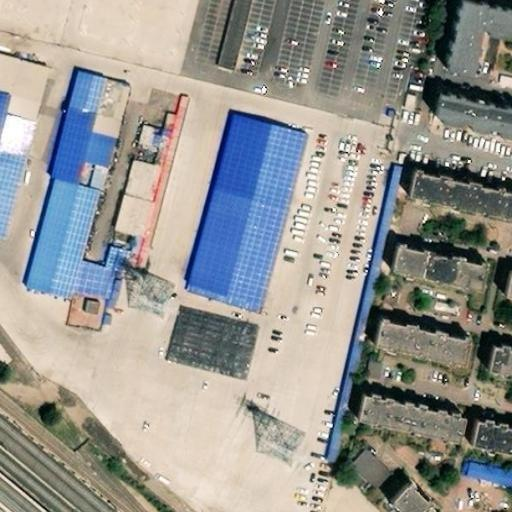building: (324, 177, 405, 465), (192, 129, 307, 319), (107, 100, 184, 286), (25, 192, 104, 313), (52, 83, 130, 204), (163, 303, 256, 377), (439, 6, 512, 90), (407, 174, 512, 229), (385, 248, 487, 299), (357, 399, 459, 450), (370, 324, 472, 375), (433, 101, 512, 152), (348, 456, 391, 498), (80, 273, 118, 310), (475, 425, 512, 460), (468, 473, 512, 499), (392, 491, 429, 512), (493, 350, 512, 384), (498, 263, 512, 295)
